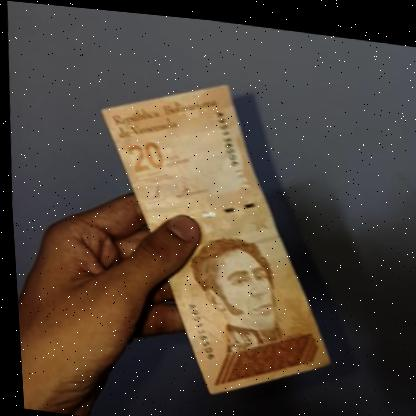twenty-front-vef: (87, 65, 337, 406)
